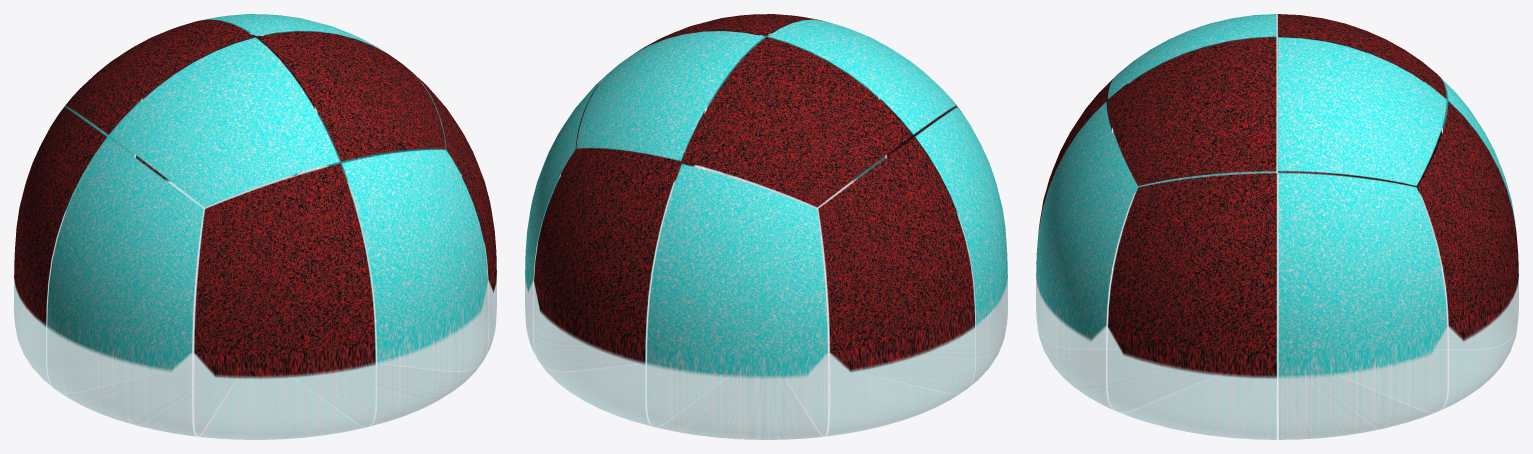
3 views of the same model, side by side, from view 1: azimuth 30°, elevation 25°; view 2: azimuth 150°, elevation 25°; view 3: azimuth 270°, elevation 25° (orthographic).
Visible parts, largest first — view 1: SM_HalfSphereBackground_LOD0; view 2: SM_HalfSphereBackground_LOD0; view 3: SM_HalfSphereBackground_LOD0.
Boxes of the visible parts, left/top/right/bottom form: SM_HalfSphereBackground_LOD0: left=14, top=14, right=496, bottom=439; SM_HalfSphereBackground_LOD0: left=525, top=14, right=1007, bottom=439; SM_HalfSphereBackground_LOD0: left=1036, top=14, right=1518, bottom=439.
Bounding box in the file's own units: 2.93 × 2.09 × 2.93.
1 material, 1 textured.
